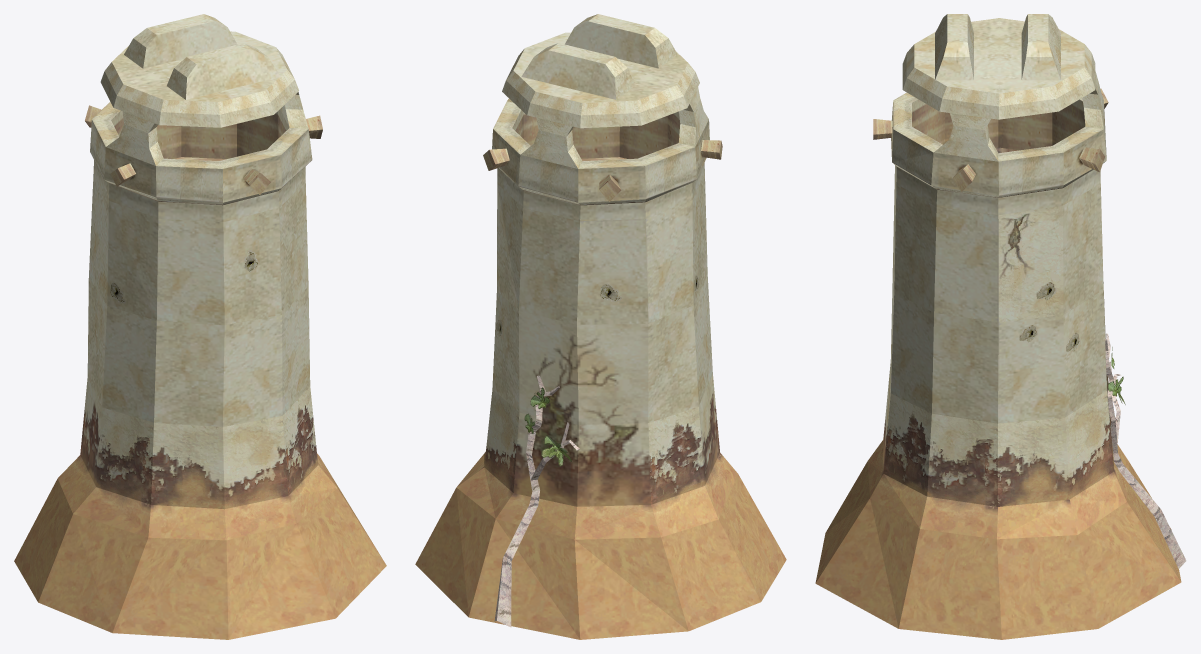
File: C2SMTHH.obj
3 views of the same model, side by side, from view 1: azimuth 30°, elevation 25°; view 2: azimuth 150°, elevation 25°; view 3: azimuth 270°, elevation 25° (orthographic).
Parts seen in each view (by area): view 1: Node 0; view 2: Node 0; view 3: Node 0.
Boxes of the visible parts, x1,y1,x2,y2 form: Node 0: (14, 14, 386, 639); Node 0: (415, 14, 786, 639); Node 0: (815, 14, 1186, 639).
Size of the model in its own units: 11.99 by 18.78 by 11.82.
5 materials, 5 textured.
